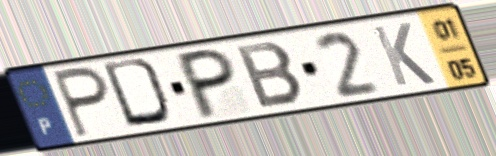2: (312, 29, 383, 101)
B: (232, 39, 309, 111)
D: (98, 55, 178, 130)
K: (368, 20, 439, 89)
P: (175, 46, 238, 124), (49, 64, 112, 141)
